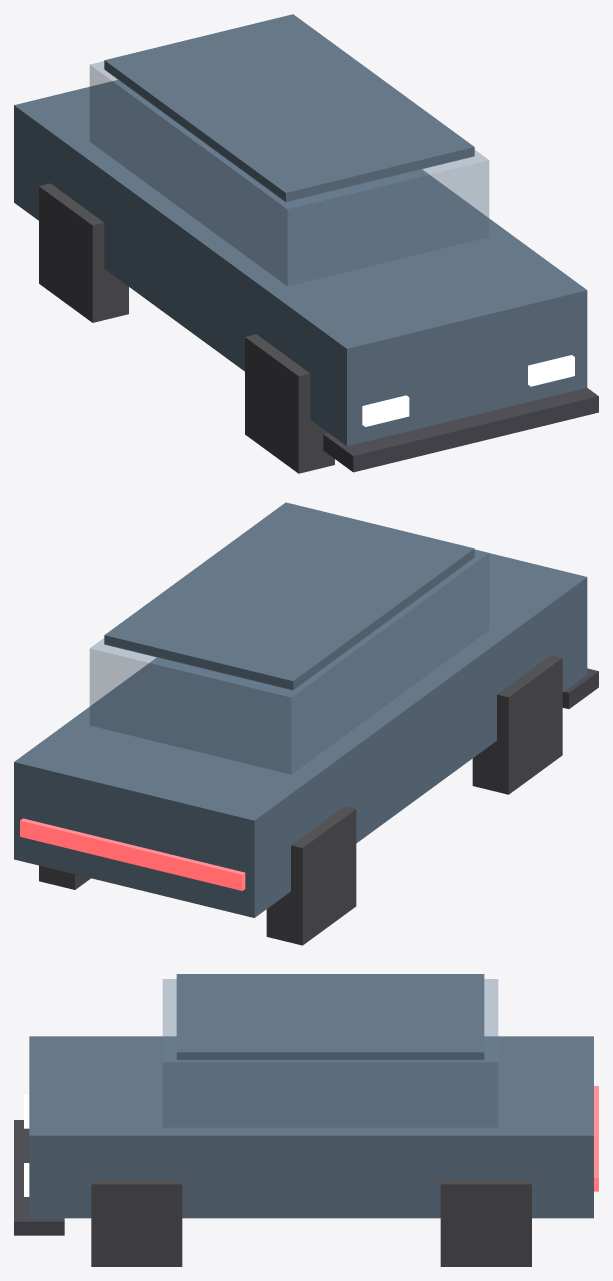
Rendered from suv.glb.
3 renders of one model, top to bottom at view 1: azimuth 30°, elevation 25°; view 2: azimuth 150°, elevation 25°; view 3: azimuth 270°, elevation 25°, orthographic. The views are drawn at different scales.
Visible parts, largest first — view 1: chassis, roof, cabin_glass, wheel_RL, wheel_FL, splitter, headlight_L, headlight_R; view 2: chassis, roof, cabin_glass, wheel_FL, wheel_RL, taillight_bar, splitter, wheel_RR; view 3: chassis, roof, cabin_glass, wheel_FR, wheel_RR, splitter, taillight_bar.
Part boxes in pixels (<box>): chassis: <box>14,80,587,446</box>; roof: <box>104,14,474,202</box>; cabin_glass: <box>90,61,488,285</box>; wheel_RL: <box>39,183,128,322</box>; wheel_FL: <box>245,334,334,473</box>; splitter: <box>323,388,598,472</box>; headlight_L: <box>362,395,409,426</box>; headlight_R: <box>528,355,574,386</box>; chassis: <box>14,549,587,917</box>; roof: <box>104,502,474,690</box>; cabin_glass: <box>90,549,488,774</box>; wheel_FL: <box>472,655,562,794</box>; wheel_RL: <box>266,806,356,945</box>; taillight_bar: <box>20,818,245,890</box>; splitter: <box>562,668,598,708</box>; wheel_RR: <box>39,865,90,889</box>; chassis: <box>29,1036,593,1218</box>; roof: <box>176,974,484,1060</box>; cabin_glass: <box>163,979,497,1127</box>; wheel_FR: <box>91,1179,182,1266</box>; wheel_RR: <box>440,1179,531,1266</box>; splitter: <box>14,1120,64,1235</box>; taillight_bar: <box>594,1086,598,1191</box>.
Size of the model in its own units: 2.04 by 1.74 by 4.62.
